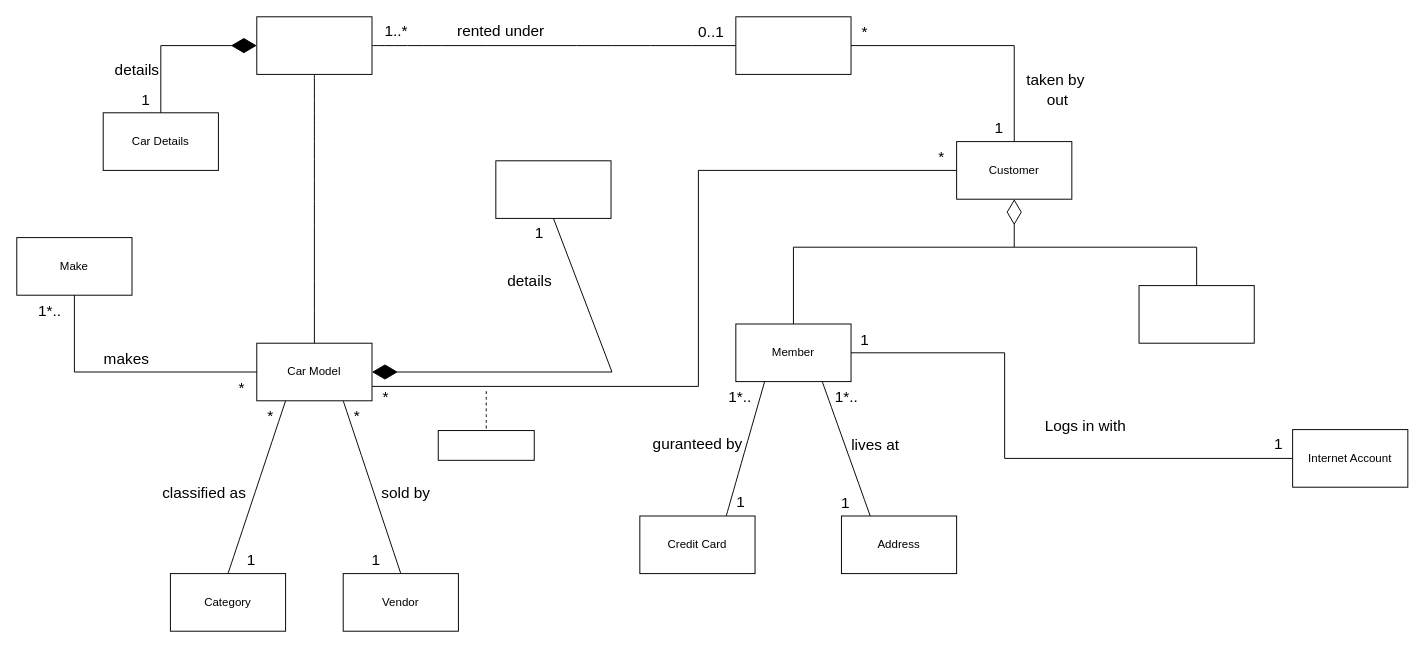
This 1425x648 diagram has some shape labels left out. Each missing label, with the box of its shape:
Car: (256, 16, 372, 74)
Car Model Details: (495, 160, 611, 218)
NonMember: (1138, 285, 1254, 343)
Rental: (735, 16, 851, 74)
Reservation: (437, 430, 534, 460)
